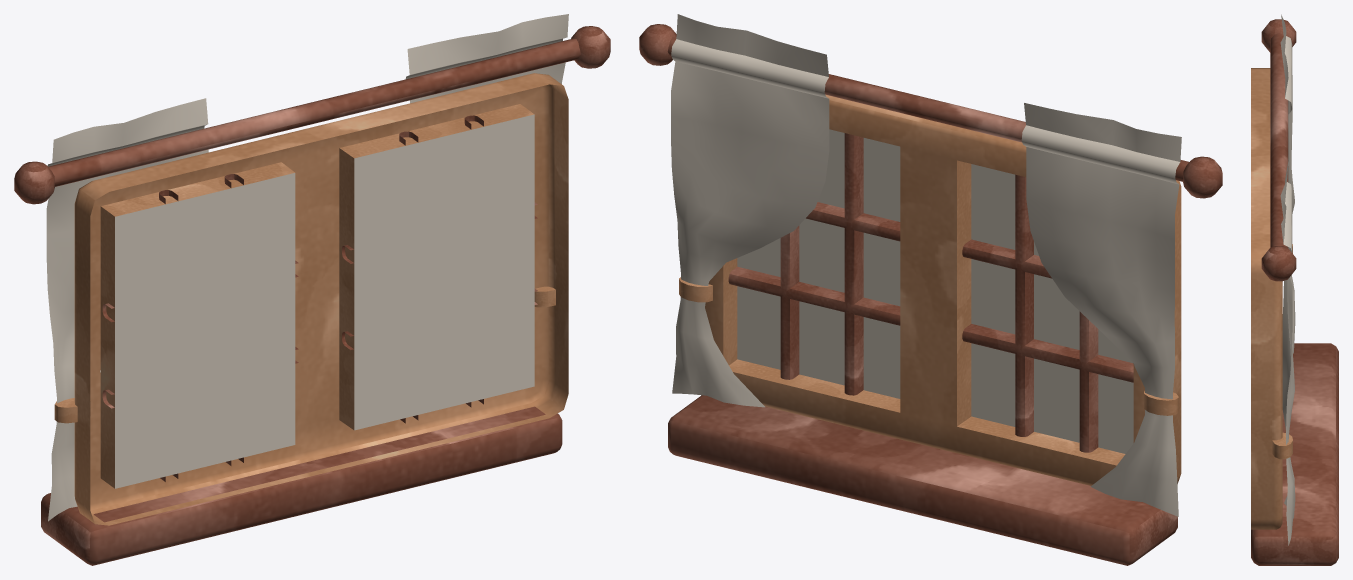
File: SM_Large_Window.fbx
3 views of the same model, side by side, from view 1: azimuth 30°, elevation 25°; view 2: azimuth 150°, elevation 25°; view 3: azimuth 270°, elevation 25° (orthographic). The views are drawn at different scales.
Parts seen in each view (by area): view 1: SM_Large_Window; view 2: SM_Large_Window; view 3: SM_Large_Window.
Part boxes in pixels (left/top/right/bottom): SM_Large_Window: left=14, top=14, right=610, bottom=565; SM_Large_Window: left=639, top=14, right=1222, bottom=565; SM_Large_Window: left=1251, top=14, right=1338, bottom=565.
Bounding box in the file's own units: 370 × 253 × 57.16.
Materials: 1 (1 with a texture image).
